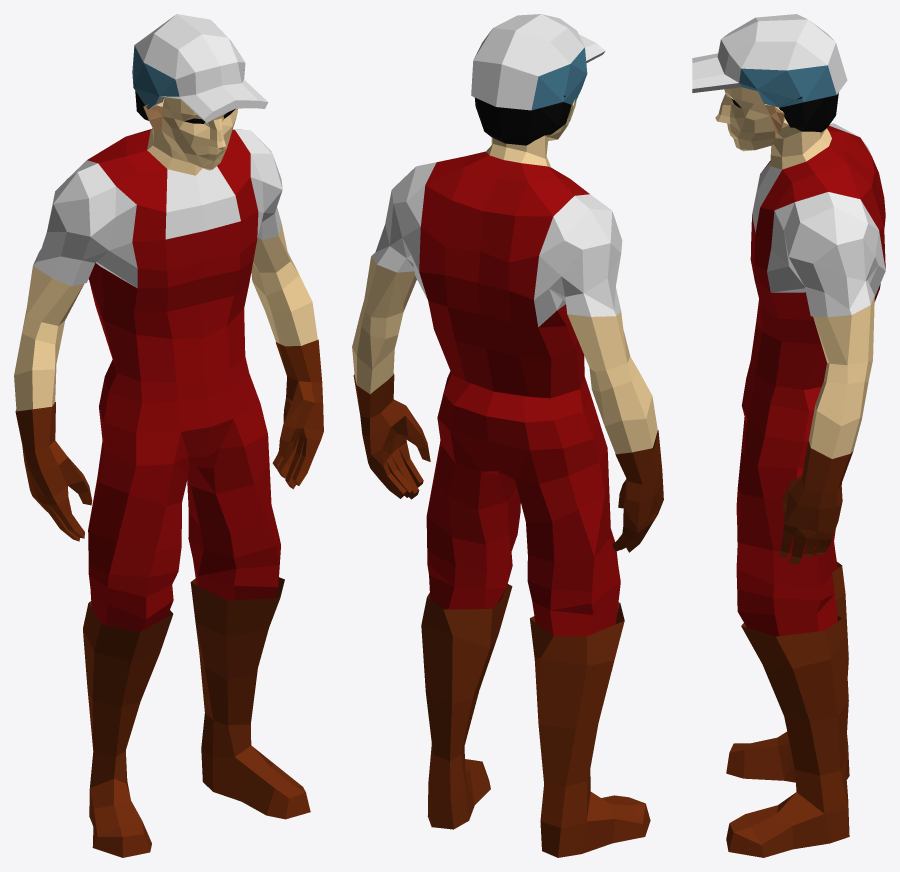
The model's file is Male_06.FBX.
3 renders of one model, left to right at view 1: azimuth 30°, elevation 25°; view 2: azimuth 150°, elevation 25°; view 3: azimuth 270°, elevation 25°, orthographic.
Visible parts, largest first — view 1: Male_06; view 2: Male_06; view 3: Male_06.
Boxes of the visible parts, x1=… form: Male_06: x1=14, y1=14, x2=323, y2=857; Male_06: x1=352, y1=14, x2=663, y2=857; Male_06: x1=692, y1=14, x2=885, y2=857.
Bounding box in the file's own units: 0.712 × 1.81 × 0.4024.
1 material, 1 textured.
